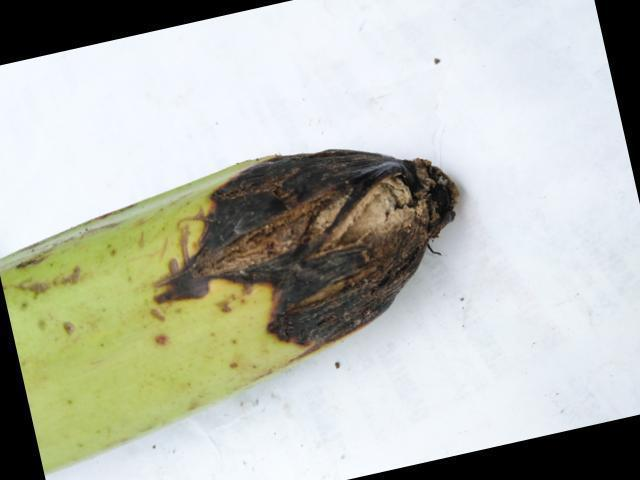rotten: (139, 107, 507, 401)
unripe: (0, 177, 182, 471)
